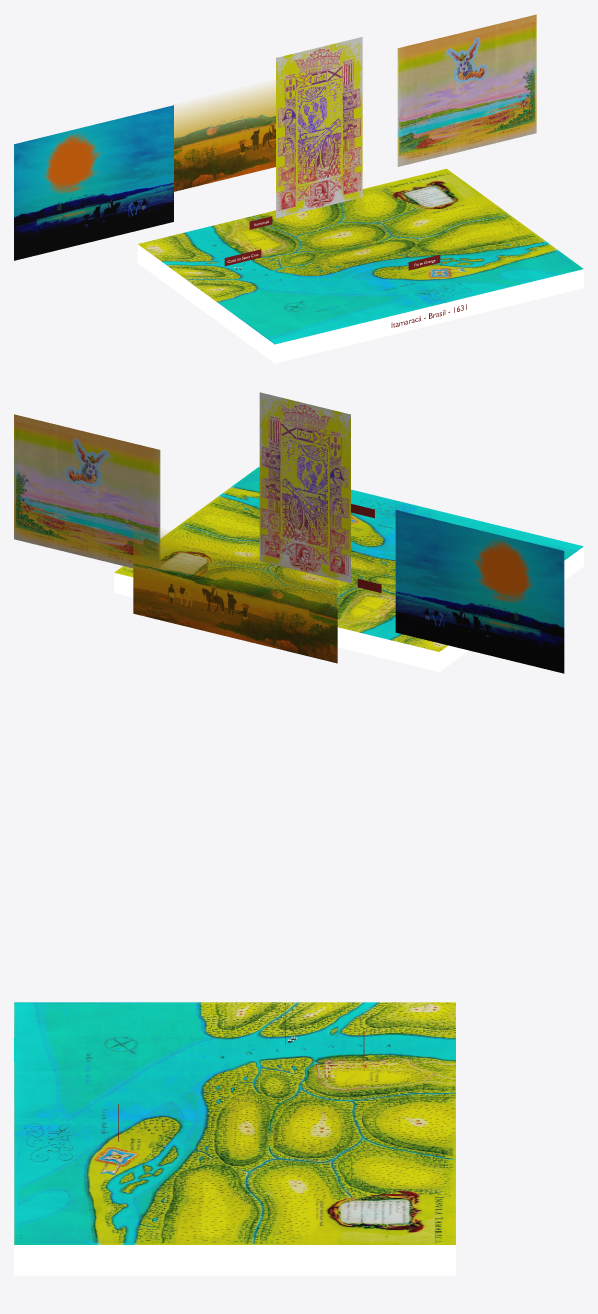
3 views of the same model, one above another, from view 1: azimuth 30°, elevation 25°; view 2: azimuth 150°, elevation 25°; view 3: azimuth 270°, elevation 25° (orthographic). The views are drawn at different scales.
Parts seen in each view (by area): view 1: it-i-map, it-i-post1, it-i-post3, it-i-miranda, mpb1633, it-i-post2; view 2: it-i-post1, it-i-map, it-i-post3, it-i-post2, it-i-miranda, mpb1633; view 3: it-i-map, mpb1633.
Part boxes in pixels (x1,y1,x2,y2): it-i-map: (138, 168, 583, 344); it-i-post1: (14, 105, 173, 260); it-i-post3: (397, 14, 536, 166); it-i-miranda: (276, 37, 362, 218); mpb1633: (137, 244, 583, 363); it-i-post2: (174, 85, 275, 191); it-i-post1: (395, 510, 564, 673); it-i-map: (114, 467, 583, 651); it-i-post3: (14, 414, 160, 569); it-i-post2: (133, 527, 337, 663); it-i-miranda: (259, 392, 350, 583); mpb1633: (114, 546, 583, 671); it-i-map: (14, 1002, 455, 1244); mpb1633: (14, 1245, 455, 1275).
Size of the model in its own units: 8.46 by 3.06 by 4.96.
Materials: 10 (5 with a texture image).
